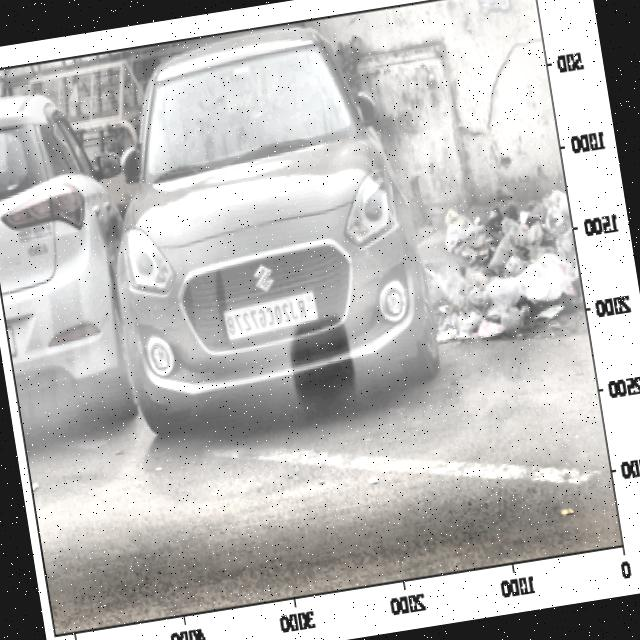license_plate: (220, 292, 311, 345)
